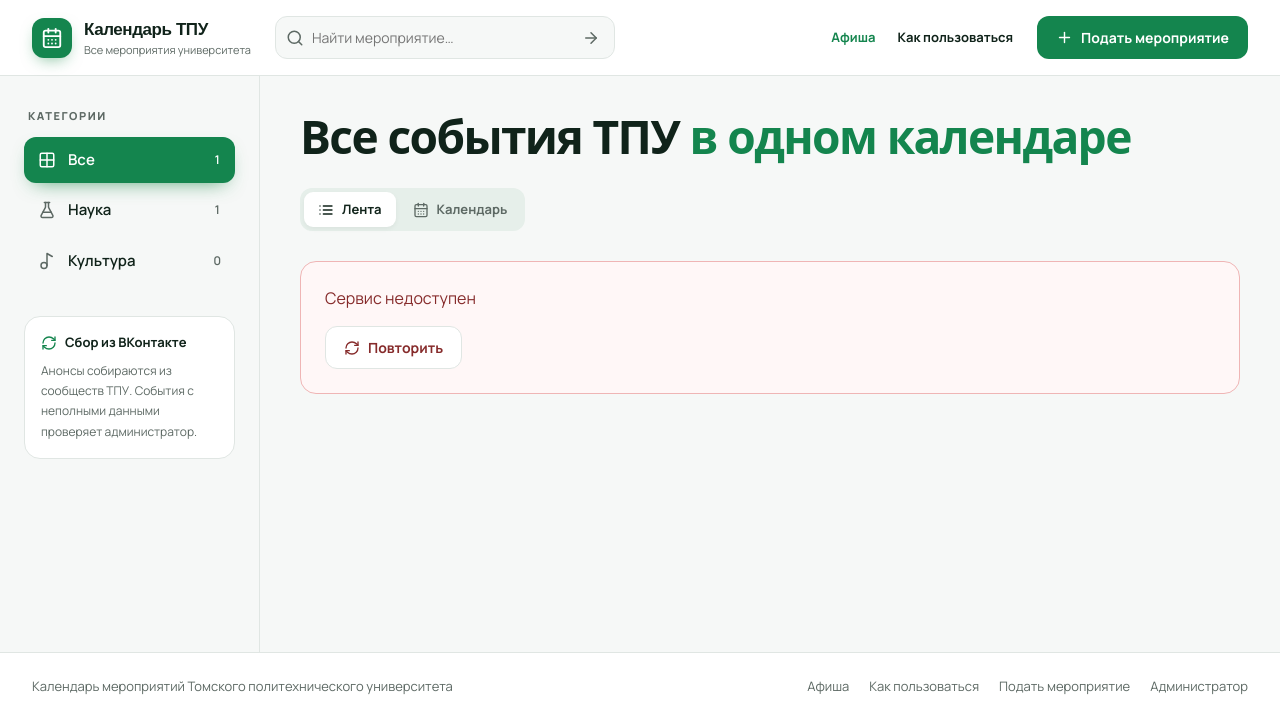
Scenario: сценарии календаря › показывает ошибку загрузки и повторяет запрос
Expected: the message shows "Сервис недоступен", left=325, top=287, right=476, bottom=309
Click the button "Повторить". click: point(394, 348)
box: left=325, top=326, right=462, bottom=369
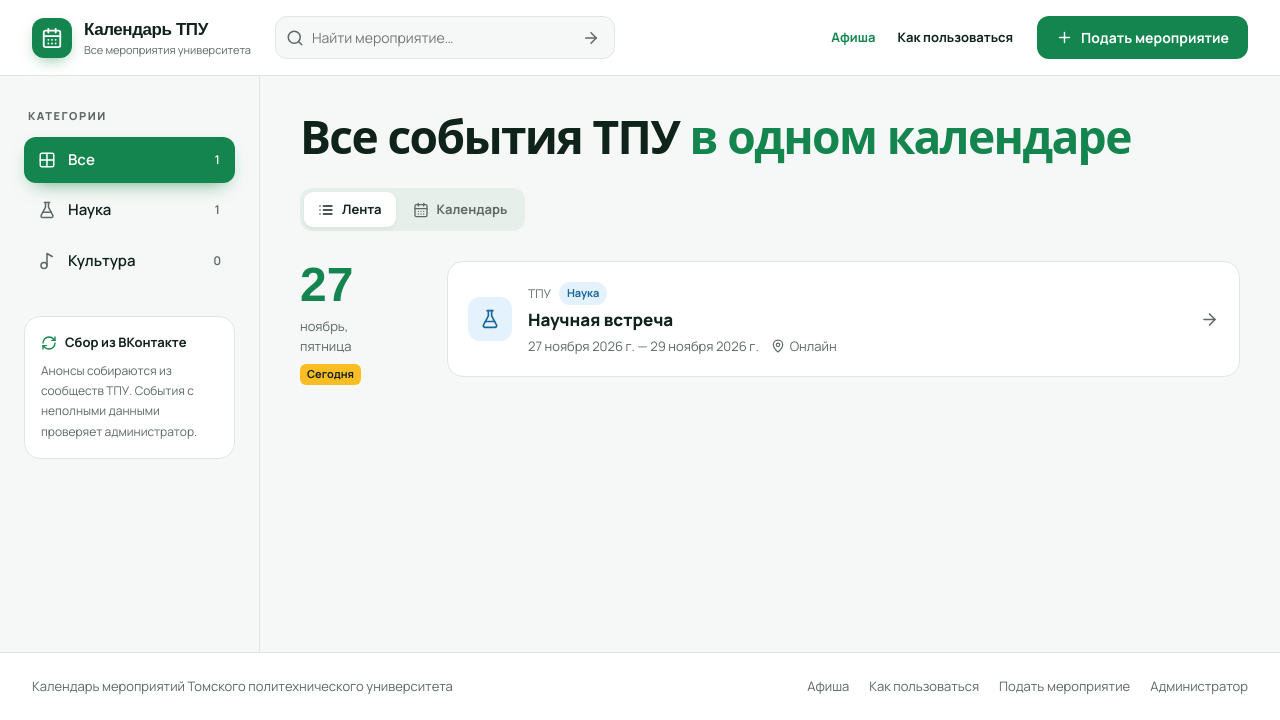
Result: the text "Научная встреча" is shown at left=528, top=308, right=673, bottom=331
